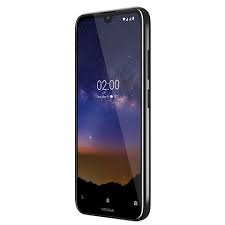nokia: (70, 5, 154, 223)
